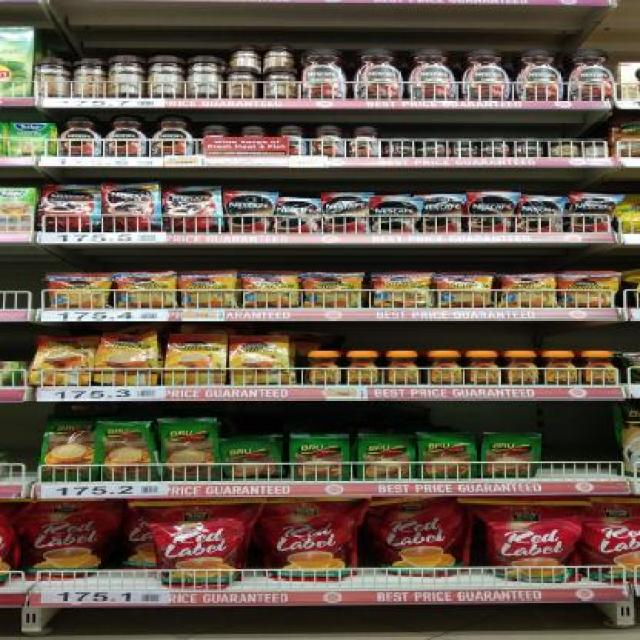Coffee: (95, 334, 160, 386), (165, 335, 226, 385), (32, 336, 91, 384), (38, 184, 98, 231), (230, 337, 290, 383), (164, 186, 222, 232), (352, 47, 403, 99), (103, 184, 159, 231), (409, 47, 459, 99), (464, 46, 511, 100), (518, 46, 564, 100), (568, 47, 615, 99), (301, 47, 347, 99), (369, 273, 431, 309), (48, 273, 110, 309), (302, 271, 363, 307), (118, 272, 176, 308), (242, 271, 298, 307), (563, 274, 622, 308), (181, 272, 236, 308), (500, 273, 558, 307), (226, 192, 274, 233), (440, 272, 492, 308), (152, 113, 194, 156), (105, 113, 147, 156), (58, 114, 100, 157), (569, 195, 617, 232), (322, 196, 370, 233), (470, 194, 516, 232), (520, 195, 565, 233), (372, 195, 417, 232), (422, 195, 462, 232), (278, 198, 319, 233), (424, 350, 464, 384), (582, 350, 620, 385), (385, 350, 421, 385), (542, 350, 578, 385), (345, 350, 381, 385), (504, 350, 539, 385), (305, 350, 341, 384), (235, 125, 271, 157), (274, 125, 308, 158), (312, 125, 346, 158), (349, 125, 383, 158), (468, 350, 500, 385), (200, 125, 232, 157), (514, 138, 546, 157), (386, 138, 416, 157), (420, 138, 449, 157), (482, 138, 510, 157), (453, 138, 476, 157)
